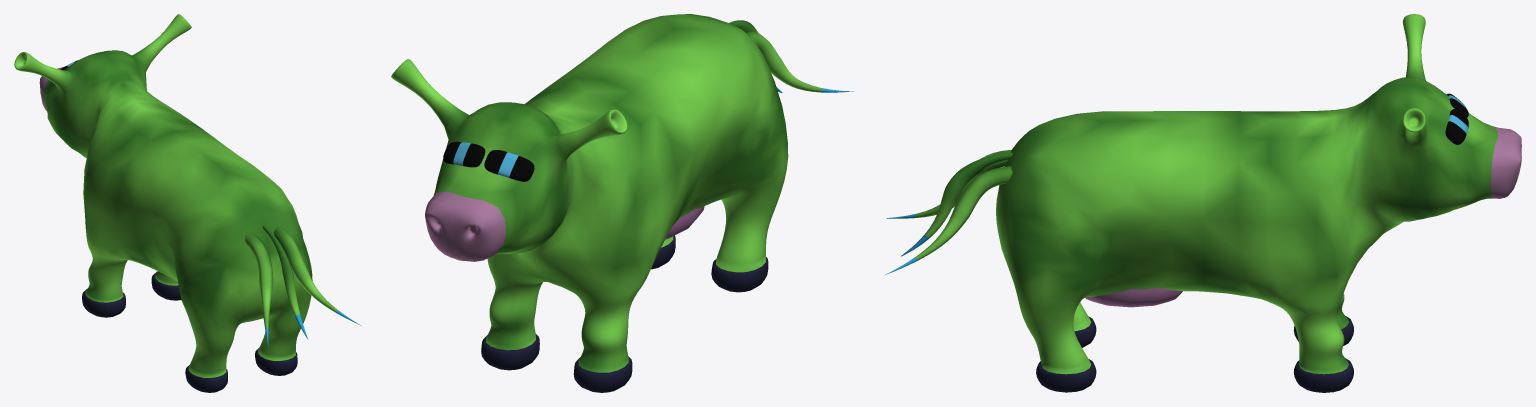
File: OgreCow.fbx
3 views of the same model, side by side, from view 1: azimuth 30°, elevation 25°; view 2: azimuth 150°, elevation 25°; view 3: azimuth 270°, elevation 25° (orthographic). The views are drawn at different scales.
Visible parts, largest first — view 1: Cube; view 2: Cube; view 3: Cube.
Boxes of the visible parts, x1,y1,x2,y2 form: Cube: (14,14,360,392); Cube: (391,14,853,392); Cube: (885,14,1521,392).
Bounding box in the file's own units: 142 × 191 × 360.
